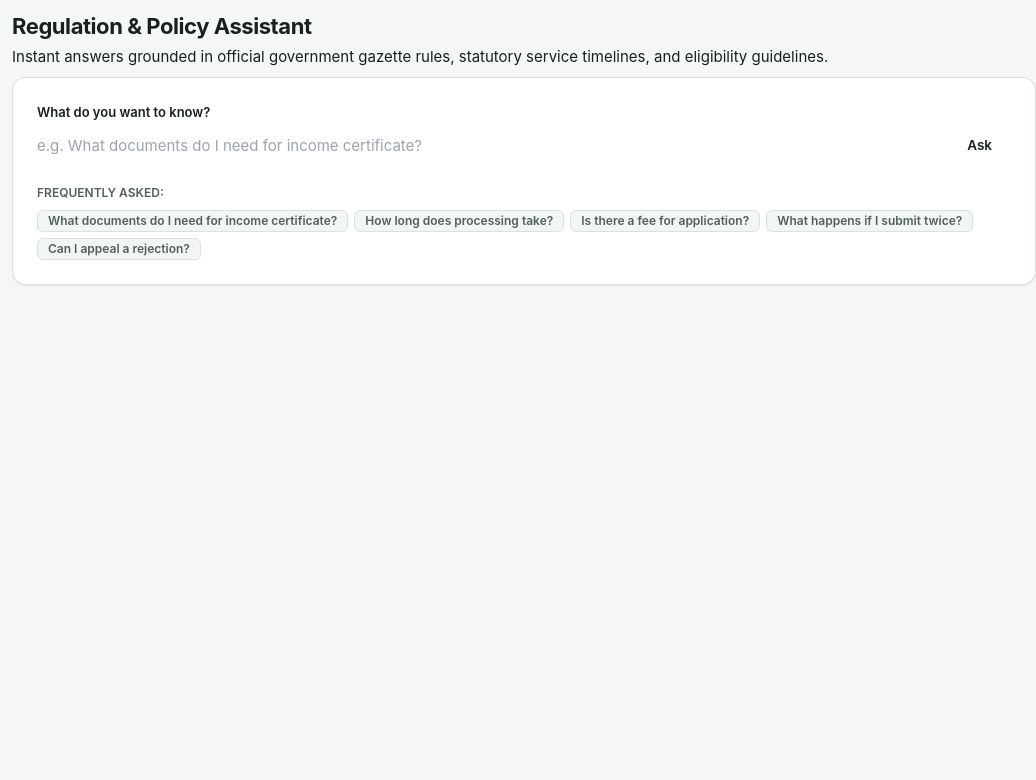
Test: AskQuestion › shows the generated answer when present, without hiding the source passage
The image size is (1036, 780).
In the field labelled "What do you want to know?": (487, 146) [37, 128, 936, 164], type "is there a fee"
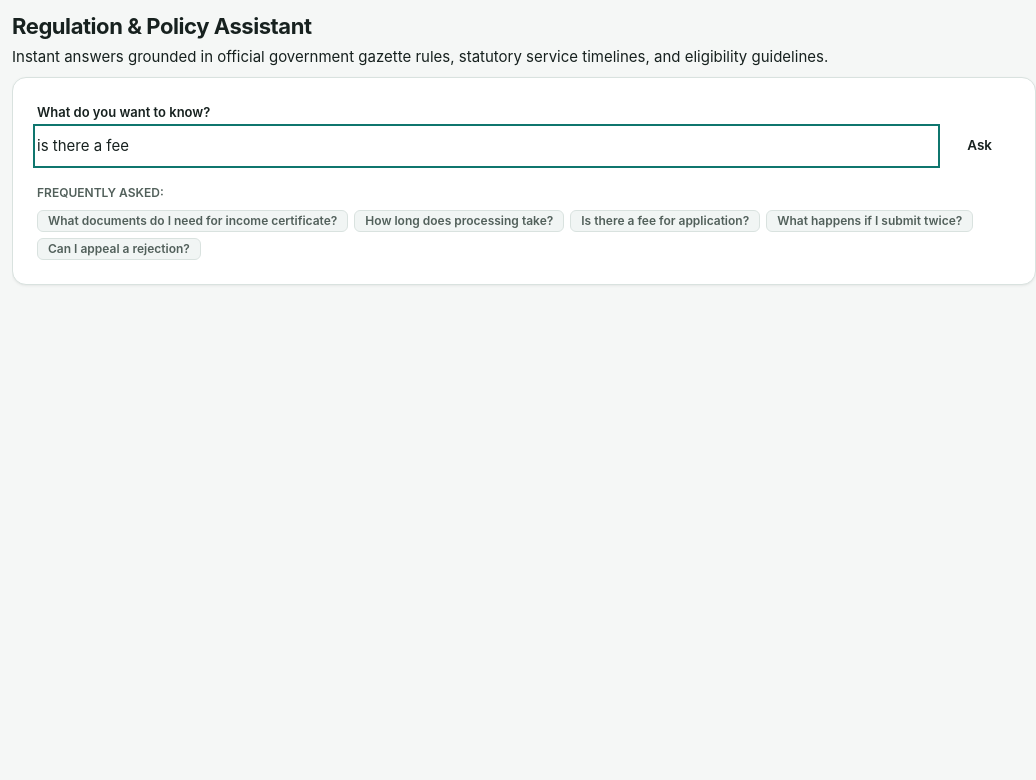
Click the button "Ask": click(980, 146) [948, 128, 1011, 164]
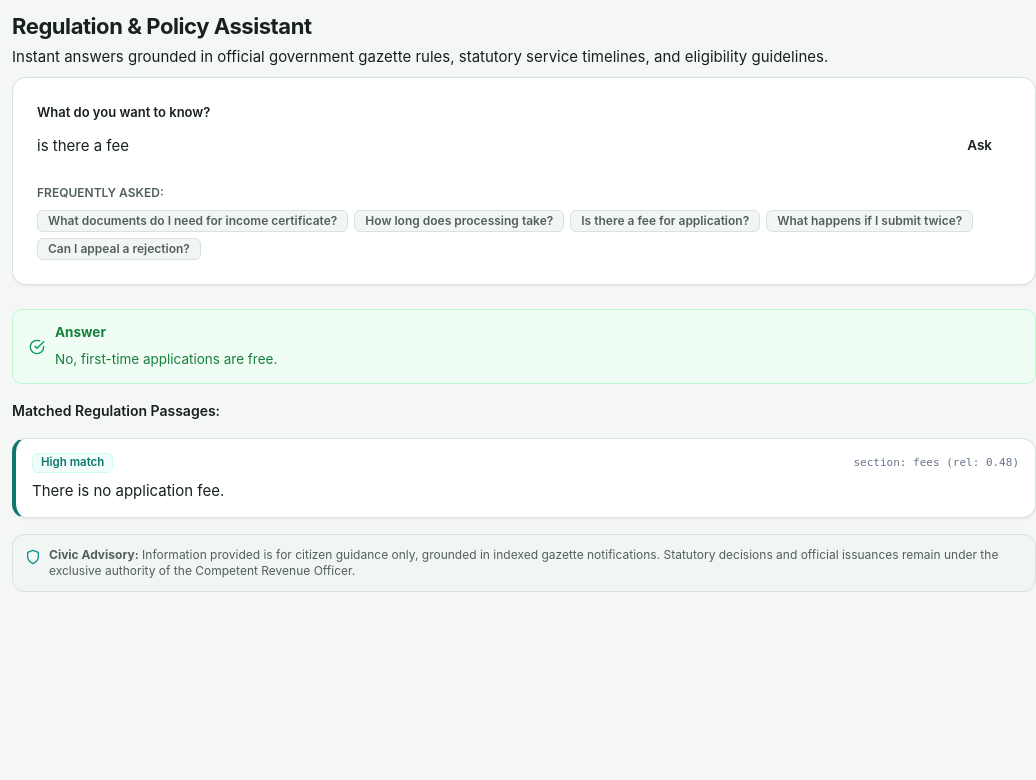
Check: the text "No, first-time applications are free." is shown, box [55, 350, 277, 371]
Check: the text "There is no application fee." is shown, box [32, 481, 224, 500]
